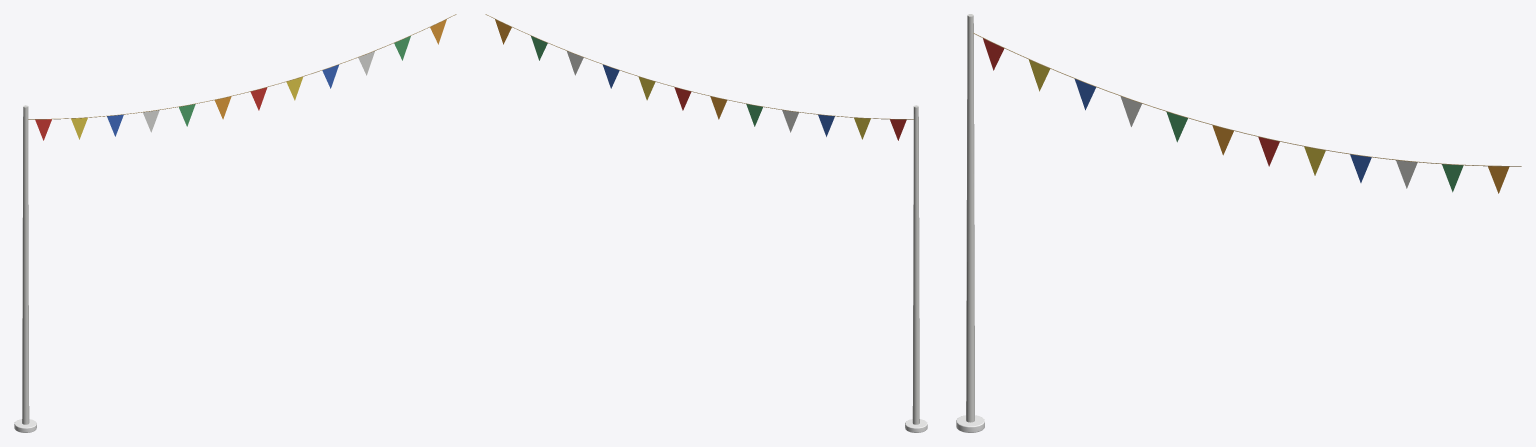
The model's file is yard_bunting.glb.
The picture shows the model from 3 angles, left to right: view 1: azimuth 30°, elevation 25°; view 2: azimuth 150°, elevation 25°; view 3: azimuth 330°, elevation 25°; orthographic projection. The views are drawn at different scales.
Parts seen in each view (by area): view 1: SM_yard_bunting; view 2: SM_yard_bunting; view 3: SM_yard_bunting.
Part boxes in pixels (x1,y1,x2,y2): SM_yard_bunting: [14, 14, 456, 432]; SM_yard_bunting: [485, 14, 927, 432]; SM_yard_bunting: [956, 14, 1521, 432].
Size of the model in its own units: 7.16 by 5 by 0.32.
